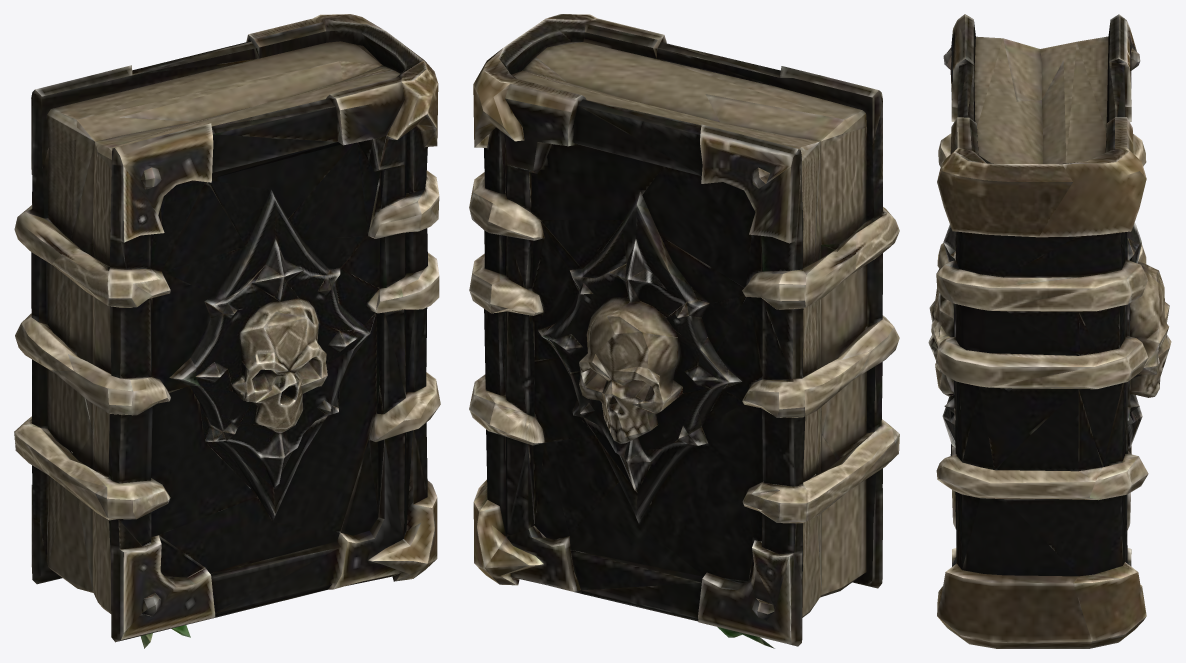
File: gravecaller_tome.glb
3 views of the same model, side by side, from view 1: azimuth 30°, elevation 25°; view 2: azimuth 150°, elevation 25°; view 3: azimuth 270°, elevation 25° (orthographic). The views are drawn at different scales.
Size of the model in its own units: 0.4862 by 0.7111 by 0.2974.
Materials: 1 (1 with a texture image).
